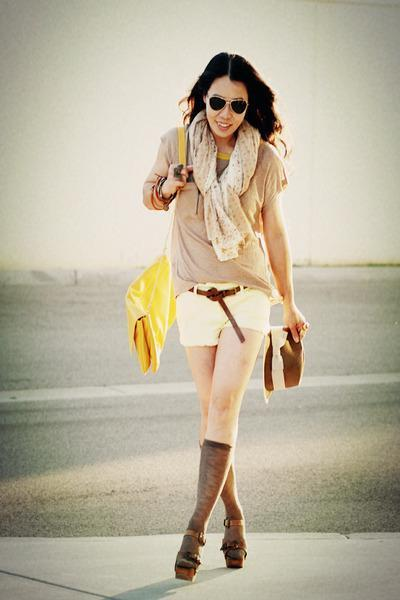Shorts: (170, 272, 275, 351)
short sleeve shirt: (155, 125, 298, 296)
